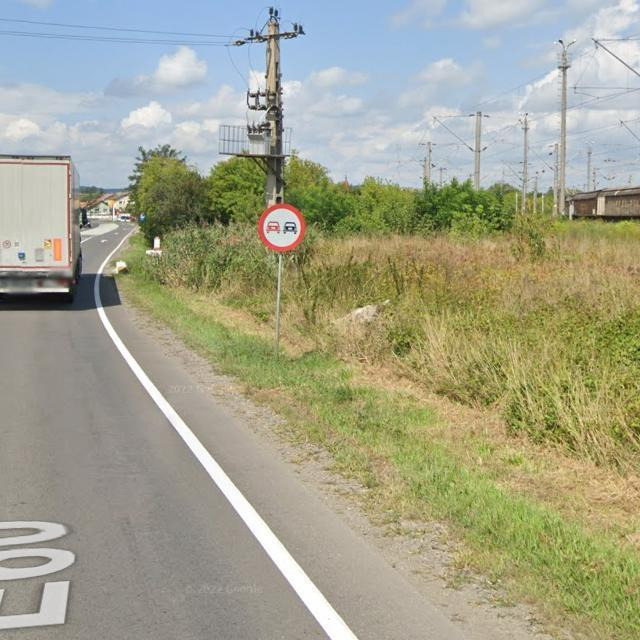forb_overtake: (259, 202, 300, 253)
